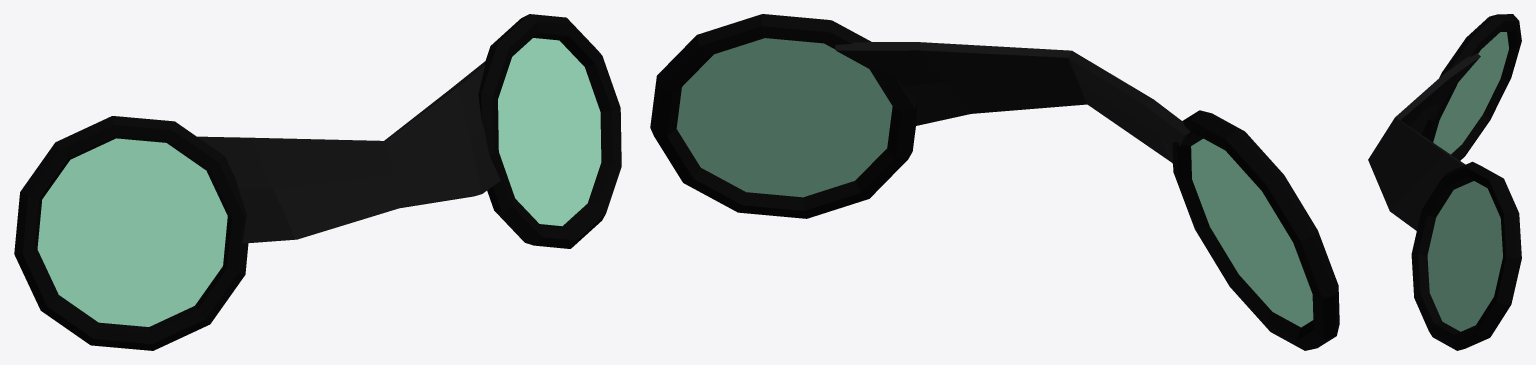
Rendered from Pighead_Glass.fbx.
The picture shows the model from 3 angles, left to right: view 1: azimuth 30°, elevation 25°; view 2: azimuth 150°, elevation 25°; view 3: azimuth 270°, elevation 25°; orthographic projection. The views are drawn at different scales.
Visible parts, largest first — view 1: BezierCircle.001; view 2: BezierCircle.001; view 3: BezierCircle.001.
Part boxes in pixels (x1,y1,x2,y2): BezierCircle.001: [14, 14, 621, 350]; BezierCircle.001: [650, 14, 1339, 350]; BezierCircle.001: [1368, 14, 1521, 350].
Size of the model in its own units: 17.2 by 5.59 by 4.81.
